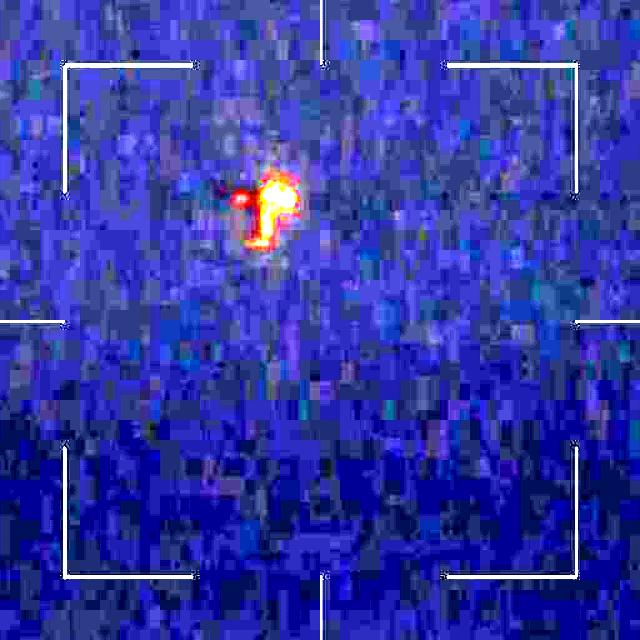bird: (228, 171, 298, 245)
